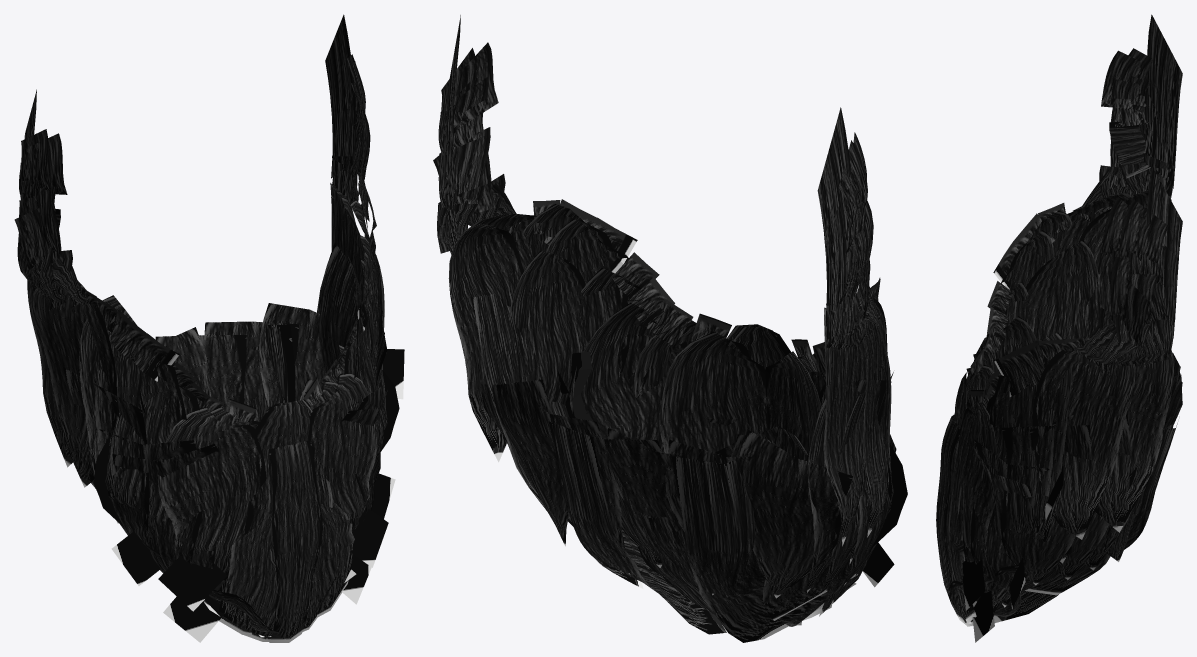
File: Yash_Beard.fbx
The picture shows the model from 3 angles, left to right: view 1: azimuth 30°, elevation 25°; view 2: azimuth 150°, elevation 25°; view 3: azimuth 270°, elevation 25°; orthographic projection. The views are drawn at different scales.
Parts seen in each view (by area): view 1: Beard; view 2: Beard; view 3: Beard.
Boxes of the visible parts, x1,y1,x2,y2 form: Beard: (14,14,404,642); Beard: (433,15,907,642); Beard: (936,14,1182,642).
Bounding box in the file's own units: 17.19 × 24.47 × 10.28.
Materials: 1 (1 with a texture image).
